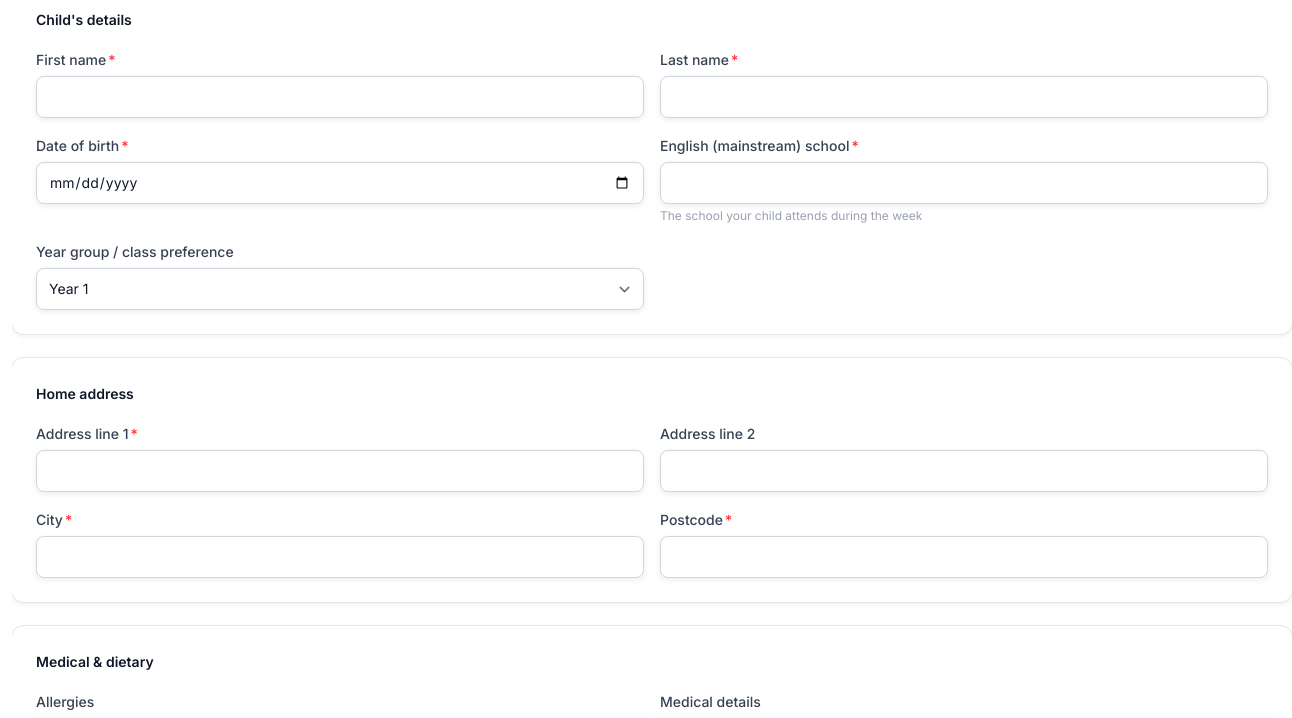
it: RegistrationForm › may leave unaccompanied › stays unticked when the date of birth changes back to an older child
The image size is (1292, 718).
In the date field labelled "Date of birth*": (340, 183) 36,162 -> 644,204, type "2010-01-01"
(page scrolled)
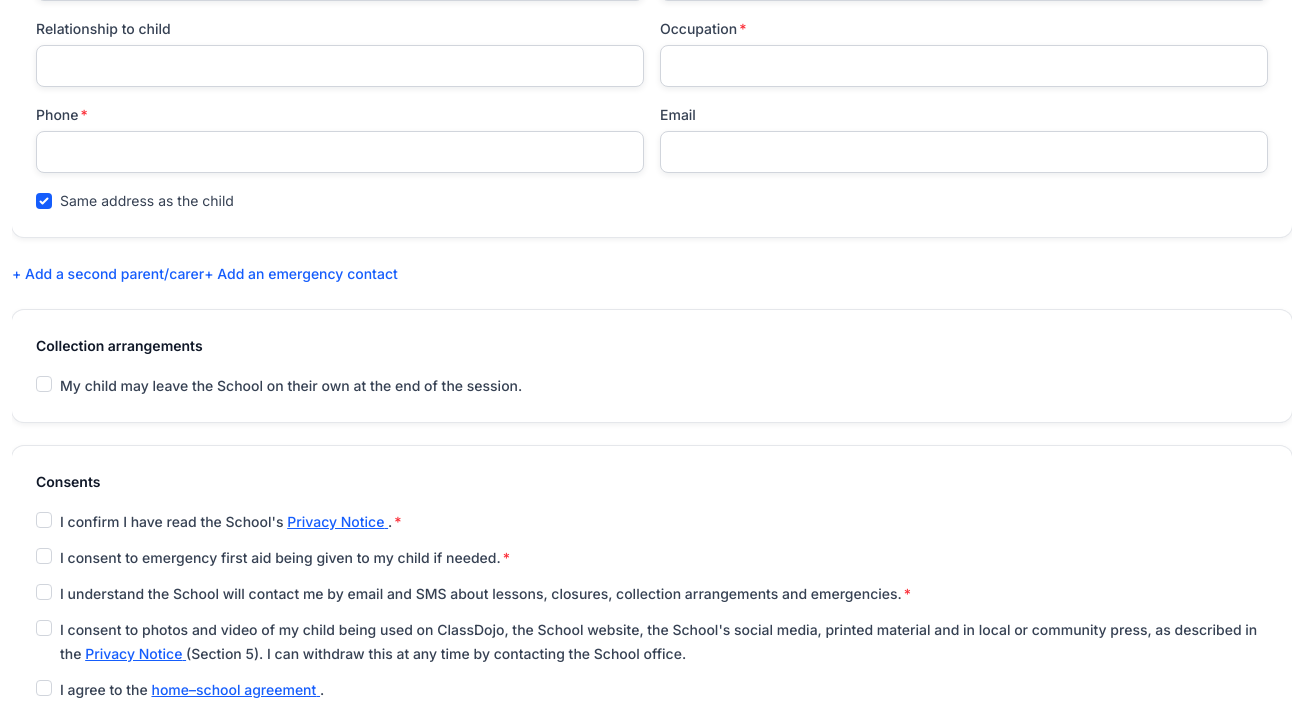
Click the checkbox labelled "My child may leave the School on their own at the end of the session.": (44, 384) 36,376 -> 52,392
(page scrolled)
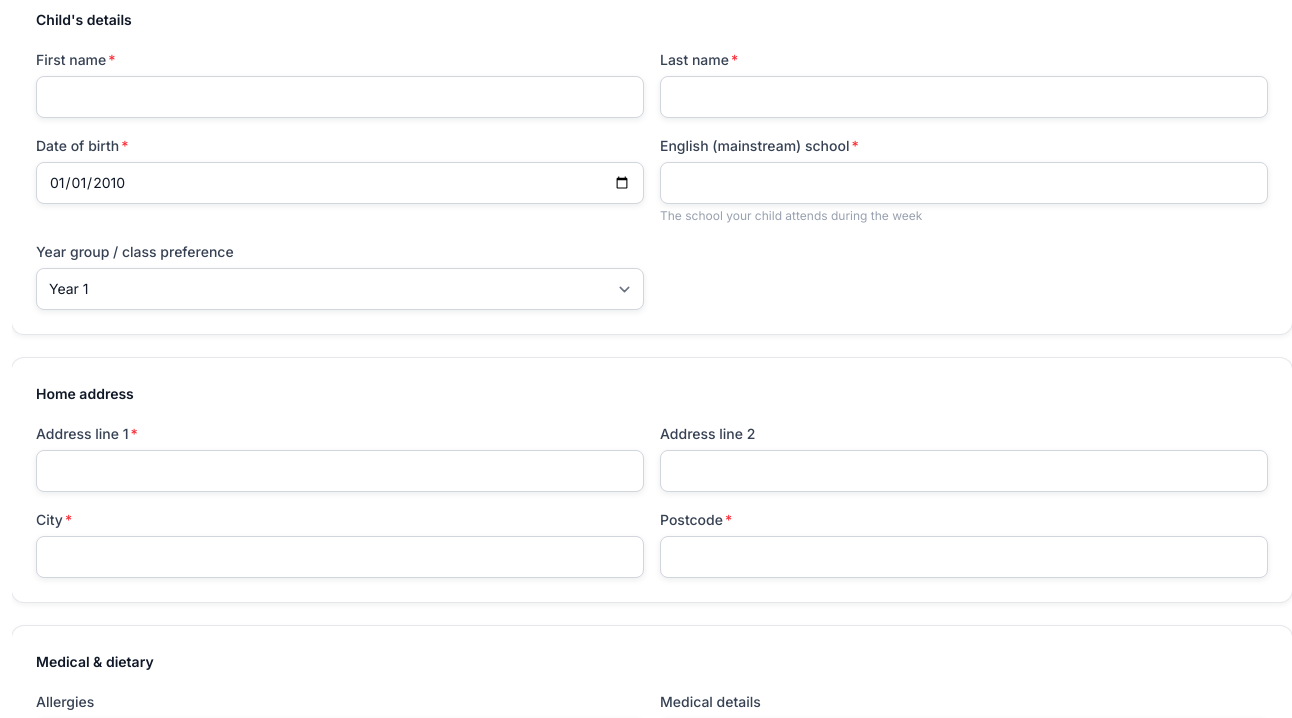
In the date field labelled "Date of birth*": (340, 183) 36,162 -> 644,204, type "2020-01-01"
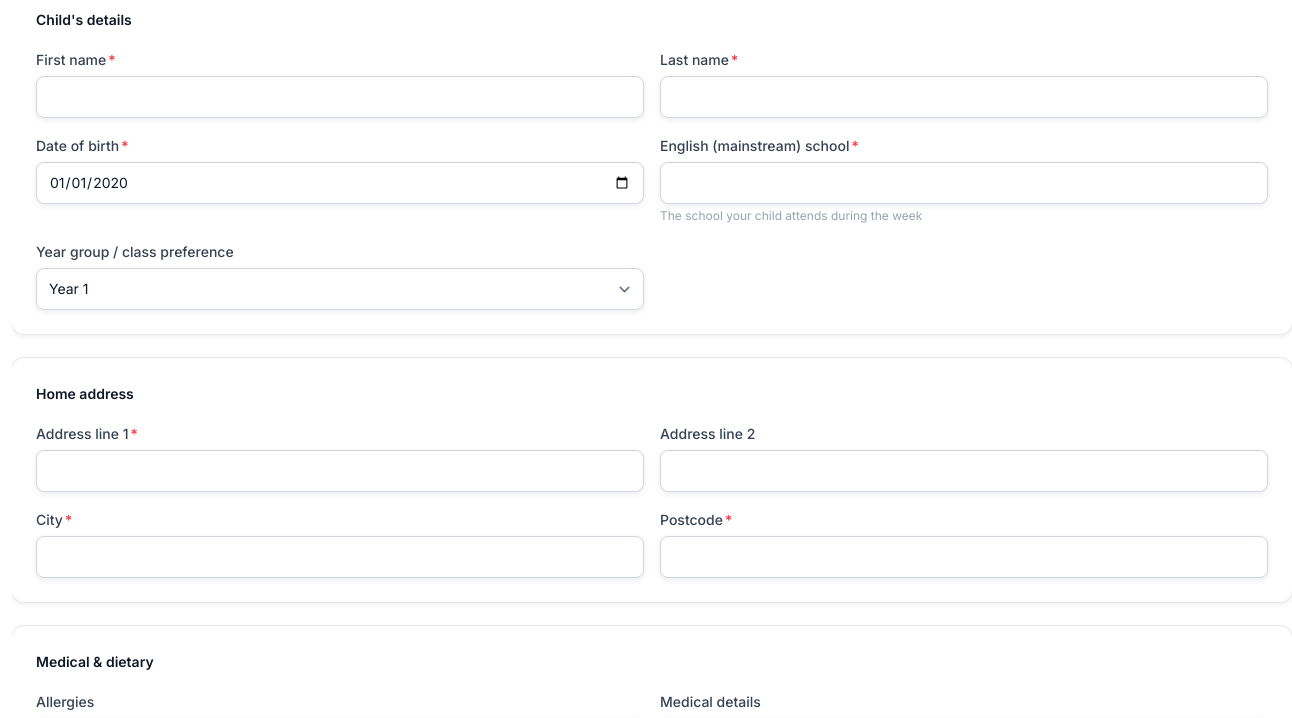
In the date field labelled "Date of birth*": (340, 183) 36,162 -> 644,204, type "2010-01-01"
(page scrolled)
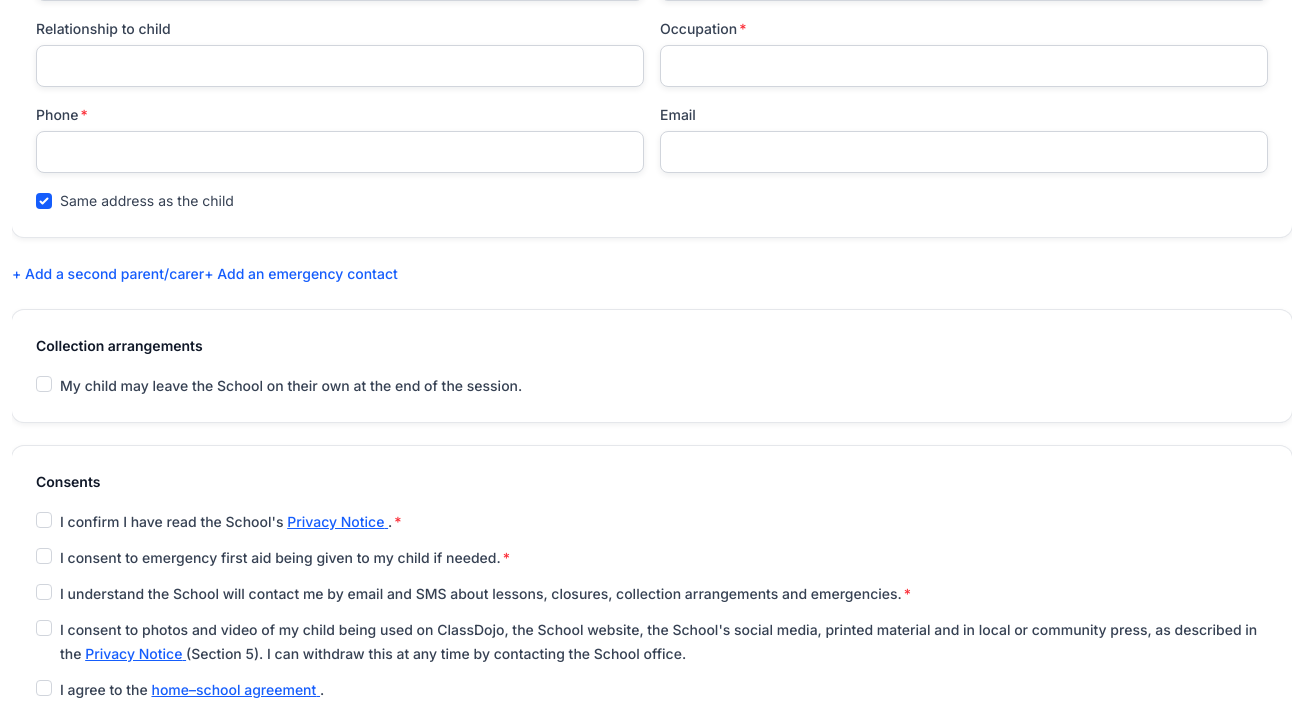
Check: the checkbox labelled "My child may leave the School on their own at the end of the session." is not checked, box 36,376 -> 52,392
Check: the checkbox labelled "My child may leave the School on their own at the end of the session." is enabled, box 36,376 -> 52,392
